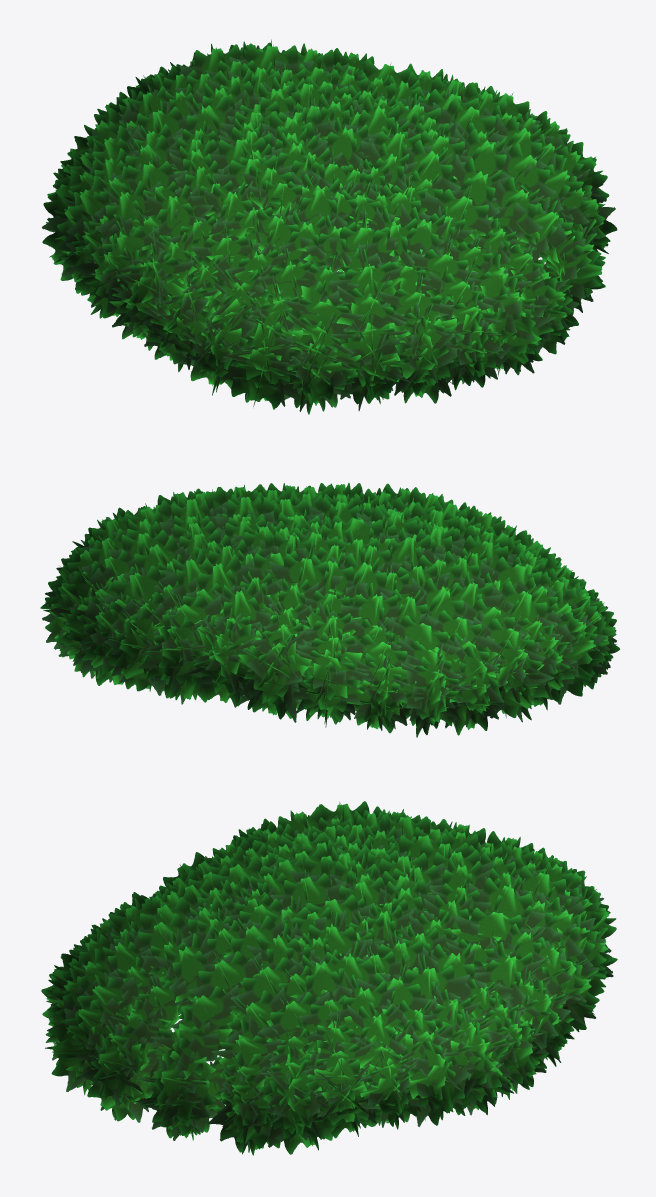
Rendered from LeafsShape.dae.
3 views of the same model, one above another, from view 1: azimuth 30°, elevation 25°; view 2: azimuth 150°, elevation 25°; view 3: azimuth 270°, elevation 25° (orthographic). The views are drawn at different scales.
Visible parts, largest first — view 1: Leafs; view 2: Leafs; view 3: Leafs.
Boxes of the visible parts, bbox=[...] form: Leafs: bbox=[42, 39, 617, 414]; Leafs: bbox=[40, 483, 619, 737]; Leafs: bbox=[41, 801, 617, 1155].
Size of the model in its own units: 36.07 by 14.97 by 34.64.
